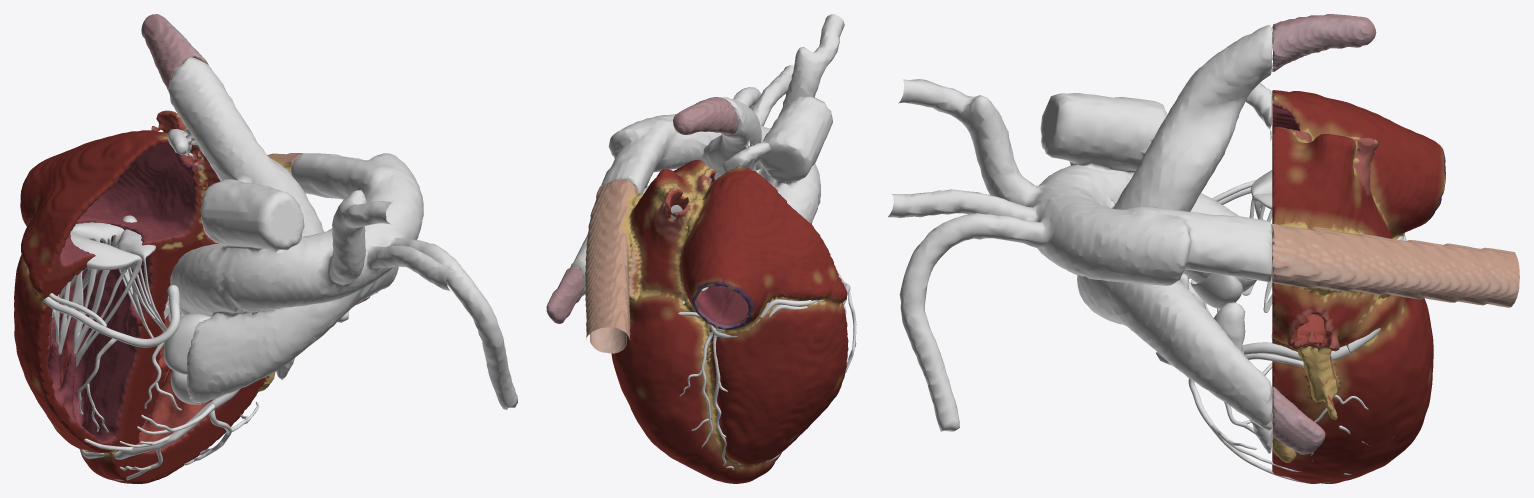
Rendered from heart.glb.
The picture shows the model from 3 angles, left to right: view 1: azimuth 30°, elevation 25°; view 2: azimuth 150°, elevation 25°; view 3: azimuth 270°, elevation 25°; orthographic projection. The views are drawn at different scales.
Visible parts, largest first — view 1: ghost, heart, coronaryArteries, leaflet_tricuspid_0, leaflet_tricuspid_2, leaflet_pulmonary_1, leaflet_tricuspid_1; view 2: heart, ghost, coronaryArteries; view 3: ghost, heart, coronaryArteries, coronaryVeins, leaflet_aortic_2, leaflet_tricuspid_2.
Boxes of the visible parts, bbox=[...] form: ghost: bbox=[167, 57, 517, 409]; heart: bbox=[14, 14, 369, 483]; coronaryArteries: bbox=[43, 285, 259, 480]; leaflet_tricuspid_0: bbox=[52, 233, 142, 366]; leaflet_tricuspid_2: bbox=[117, 229, 166, 338]; leaflet_pulmonary_1: bbox=[163, 313, 211, 374]; leaflet_tricuspid_1: bbox=[52, 222, 124, 317]; heart: bbox=[546, 97, 848, 483]; ghost: bbox=[570, 14, 844, 296]; coronaryArteries: bbox=[678, 268, 856, 469]; ghost: bbox=[888, 25, 1271, 453]; heart: bbox=[1272, 14, 1519, 483]; coronaryArteries: bbox=[1179, 187, 1409, 483]; coronaryVeins: bbox=[1212, 180, 1406, 361]; leaflet_aortic_2: bbox=[1191, 273, 1242, 308]; leaflet_tricuspid_2: bbox=[1242, 194, 1272, 312].
Bounding box in the file's own units: 6.7 × 8.19 × 9.79.
